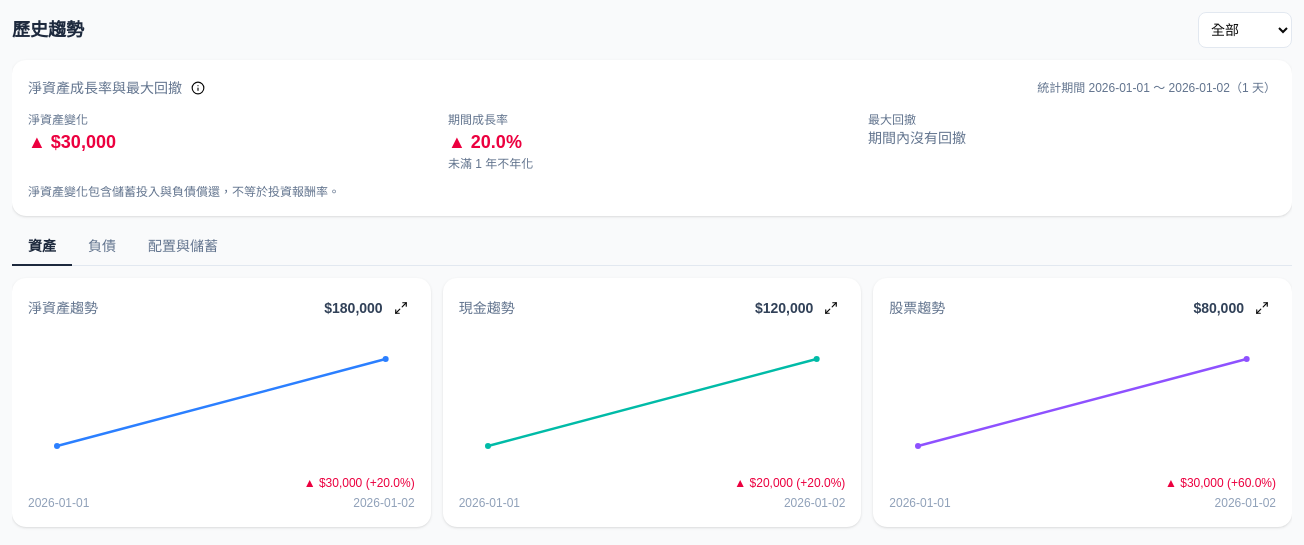
Test: TrendSection › 淨資產、現金、股票、負債比卡片各自顯示對應欄位的最新一筆數值
Expected: the text "$180,000" is shown, [324,298,383,318]
Expected: the text "$120,000" is shown, [755,298,813,318]
Press the mouse on the tab "負債" at (102, 247), box [72,228,132,266]
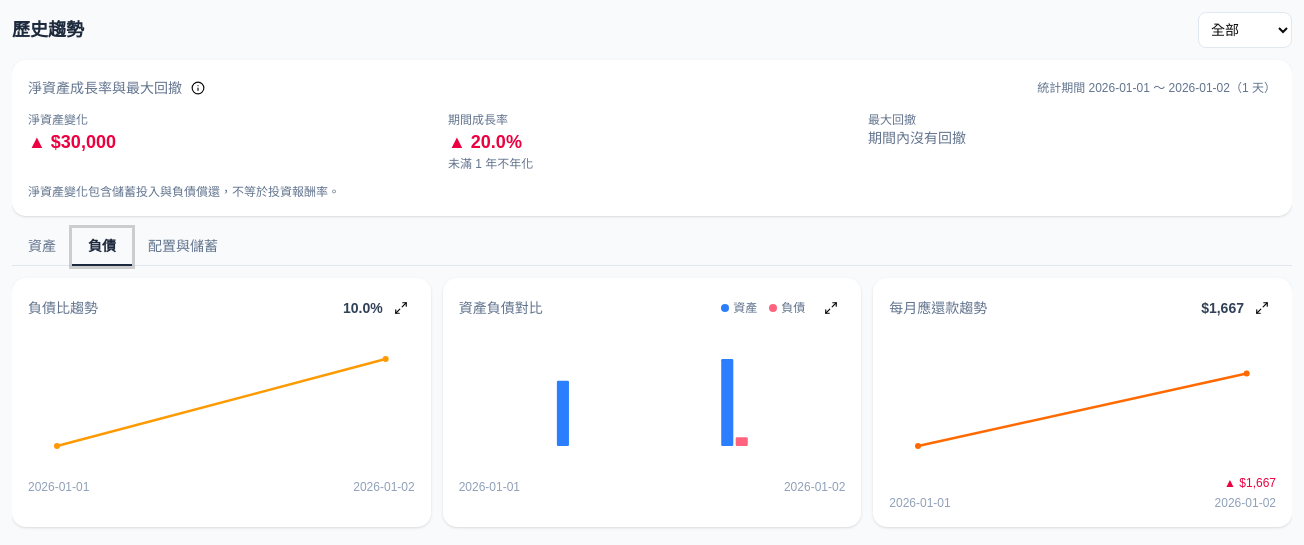
Now the text "10.0%" is shown, box [343,298,383,318]
